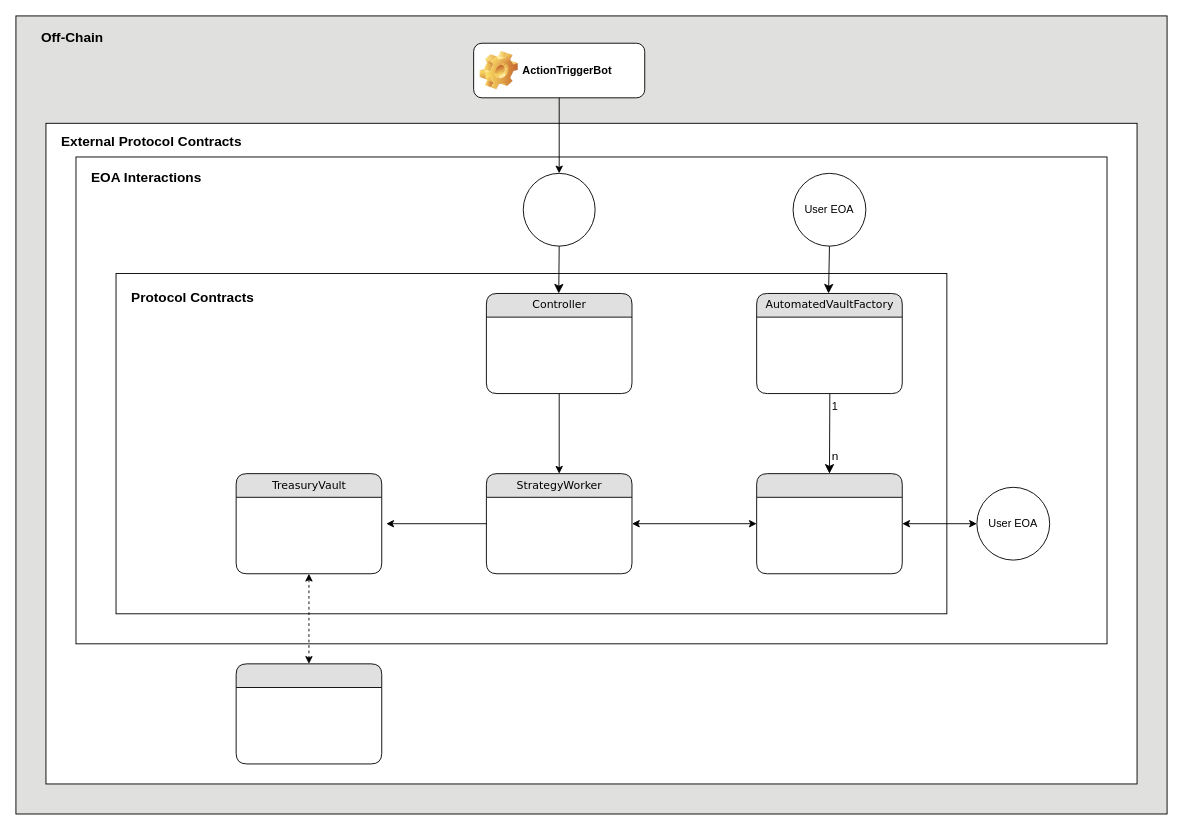
The diagram is 1183 pixels wide and 830 high, and some of its shapes have lost their labels. Here are the shapes that lost their labels. From the top down, the centre of each, then its label:
pixel 558 209: Protocol EOA
pixel 829 523: AutomatedVaultERC4626
pixel 308 713: ExternalDexRouter
